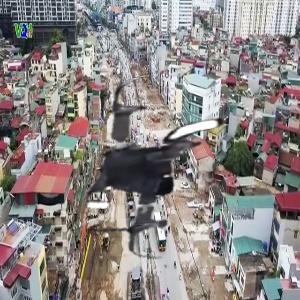drone: (63, 69, 262, 268)
